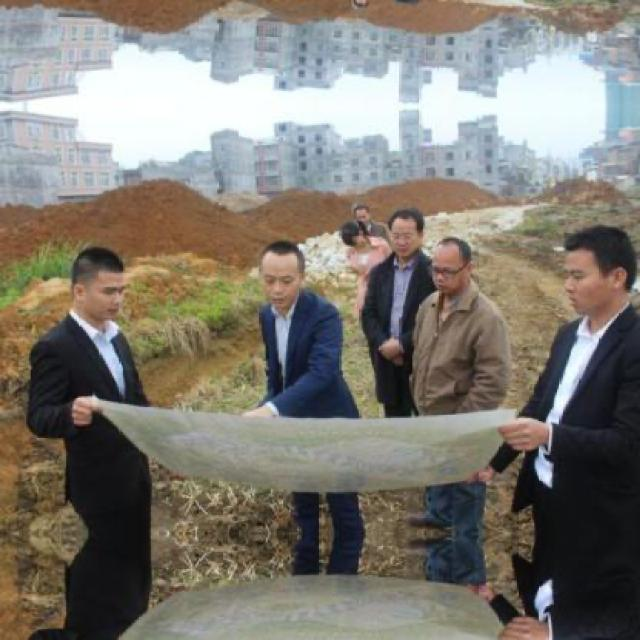sin casco: (0, 238, 155, 419), (383, 242, 501, 334), (558, 228, 634, 328), (242, 238, 326, 315), (399, 188, 466, 268)
